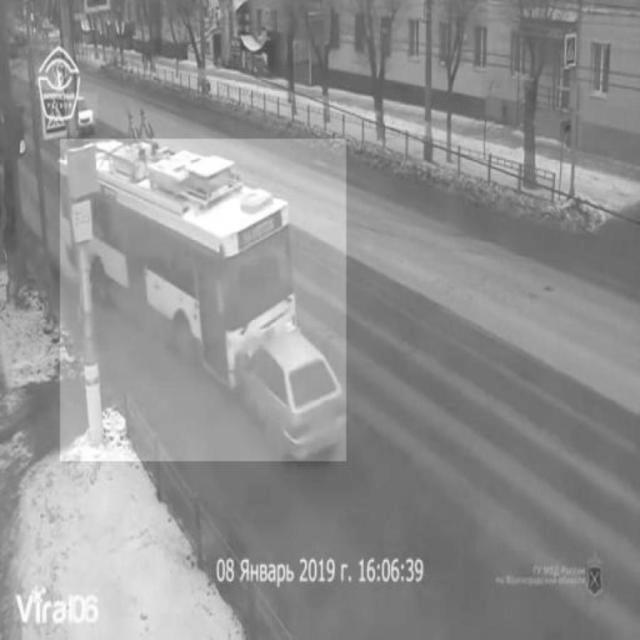accident: (61, 139, 347, 461)
vehicle: (65, 92, 97, 133)
